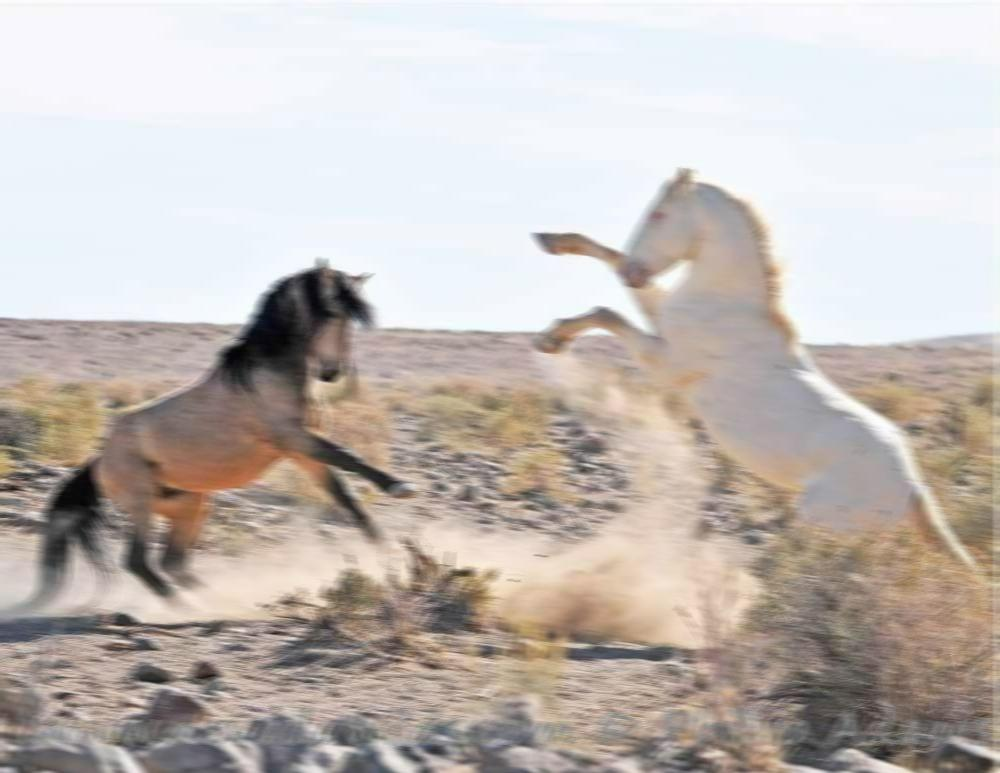horse: (530, 164, 984, 580), (4, 255, 420, 619)
